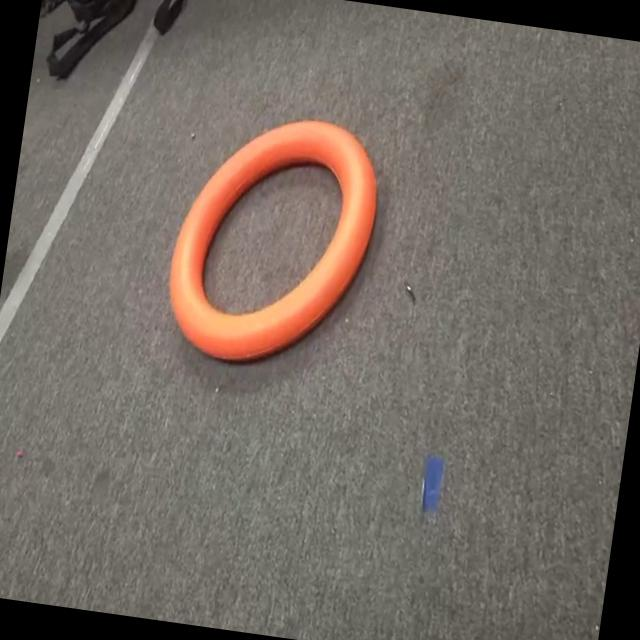note: (150, 93, 400, 381)
